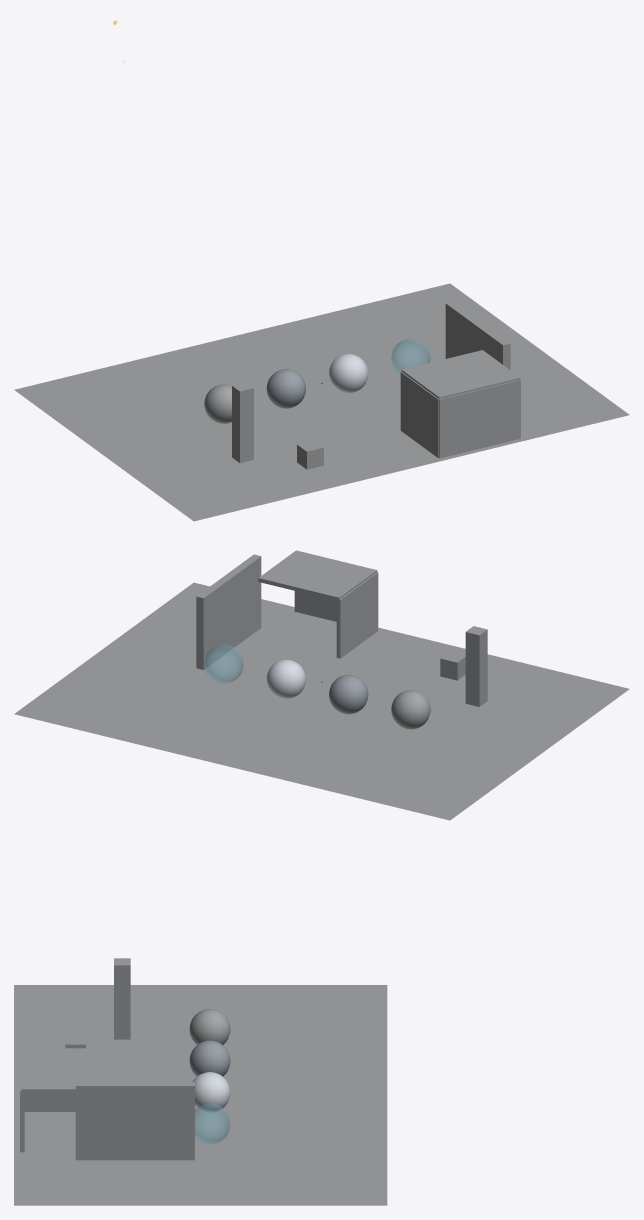
File: p63_2a_celestial_test_stage.glb
3 views of the same model, one above another, from view 1: azimuth 30°, elevation 25°; view 2: azimuth 150°, elevation 25°; view 3: azimuth 270°, elevation 25° (orthographic). The views are drawn at different scales.
Parts seen in each view (by area): view 1: P63_STAGE_GROUND, P63_ROOF_BACK, P63_ROOF, P63_VERTICAL_WALL, P63_ROOF_LEFT, P63_SHADOW_PILLAR, P63_ROUGH_METAL, P63_POLISHED_METAL, P63_GLASS, P63_MATTE_SPHERE; view 2: P63_STAGE_GROUND, P63_VERTICAL_WALL, P63_ROOF, P63_ROOF_LEFT, P63_INTERIOR_FLOOR, P63_SHADOW_PILLAR, P63_ROUGH_METAL, P63_MATTE_SPHERE, P63_POLISHED_METAL, P63_GLASS, P63_ROOF_BACK, P63_NORMAL_SCALE_REFERENCE; view 3: P63_STAGE_GROUND, P63_VERTICAL_WALL, P63_ROOF, P63_INTERIOR_FLOOR, P63_SHADOW_PILLAR, P63_POLISHED_METAL, P63_GLASS, P63_ROUGH_METAL, P63_MATTE_SPHERE, P63_ROOF_LEFT.
Part boxes in pixels (x1=…): P63_STAGE_GROUND: x1=14, y1=283, x2=629, y2=521; P63_ROOF_BACK: x1=439, y1=379, x2=520, y2=458; P63_ROOF: x1=401, y1=350, x2=520, y2=399; P63_VERTICAL_WALL: x1=445, y1=301, x2=510, y2=369; P63_ROOF_LEFT: x1=400, y1=371, x2=439, y2=458; P63_SHADOW_PILLAR: x1=232, y1=382, x2=253, y2=463; P63_ROUGH_METAL: x1=266, y1=369, x2=305, y2=408; P63_POLISHED_METAL: x1=329, y1=354, x2=368, y2=393; P63_GLASS: x1=391, y1=338, x2=430, y2=374; P63_MATTE_SPHERE: x1=204, y1=384, x2=231, y2=423; P63_STAGE_GROUND: x1=14, y1=582, x2=629, y2=820; P63_VERTICAL_WALL: x1=196, y1=554, x2=261, y2=669; P63_ROOF: x1=258, y1=550, x2=377, y2=601; P63_ROOF_LEFT: x1=336, y1=572, x2=378, y2=658; P63_INTERIOR_FLOOR: x1=261, y1=612, x2=336, y2=656; P63_SHADOW_PILLAR: x1=465, y1=626, x2=487, y2=706; P63_ROUGH_METAL: x1=329, y1=674, x2=368, y2=714; P63_MATTE_SPHERE: x1=391, y1=690, x2=430, y2=729; P63_POLISHED_METAL: x1=266, y1=659, x2=305, y2=698; P63_GLASS: x1=204, y1=644, x2=243, y2=683; P63_ROOF_BACK: x1=294, y1=591, x2=336, y2=621; P63_NORMAL_SCALE_REFERENCE: x1=440, y1=651, x2=465, y2=680; P63_STAGE_GROUND: x1=14, y1=985, x2=387, y2=1205; P63_VERTICAL_WALL: x1=75, y1=1082, x2=194, y2=1160; P63_ROOF: x1=21, y1=1048, x2=99, y2=1093; P63_INTERIOR_FLOOR: x1=24, y1=1112, x2=75, y2=1150; P63_SHADOW_PILLAR: x1=114, y1=958, x2=130, y2=1039; P63_POLISHED_METAL: x1=192, y1=1072, x2=230, y2=1112; P63_GLASS: x1=195, y1=1103, x2=230, y2=1144; P63_ROUGH_METAL: x1=189, y1=1040, x2=230, y2=1076; P63_MATTE_SPHERE: x1=189, y1=1009, x2=230, y2=1044; P63_ROOF_LEFT: x1=24, y1=1093, x2=75, y2=1111.
Size of the model in its own units: 28 by 14.85 by 33.
84 materials, 71 textured.
